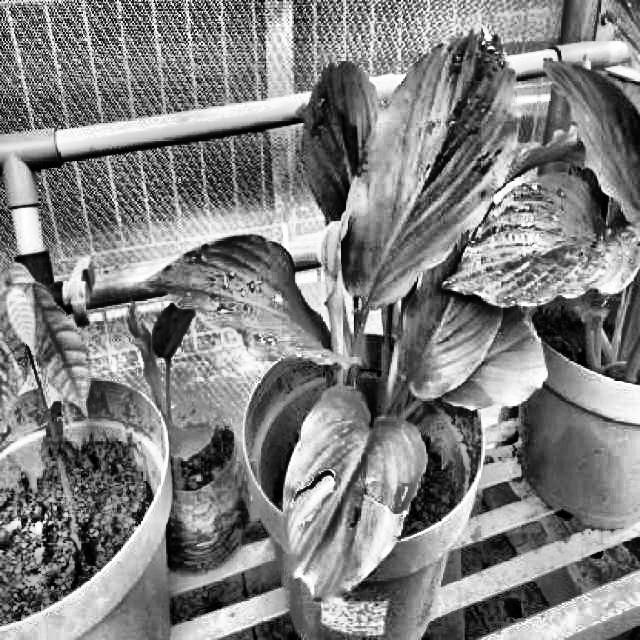plants: (140, 38, 562, 597), (455, 0, 640, 388)
